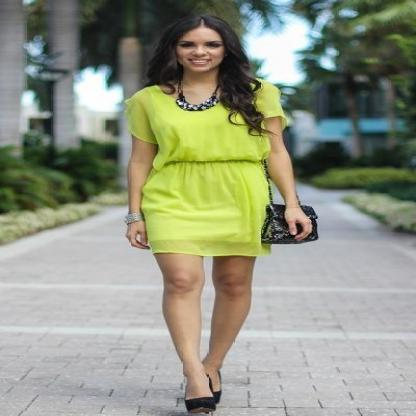bag: (260, 181, 318, 252)
dress: (128, 82, 293, 256)
shoe: (185, 375, 221, 411)
